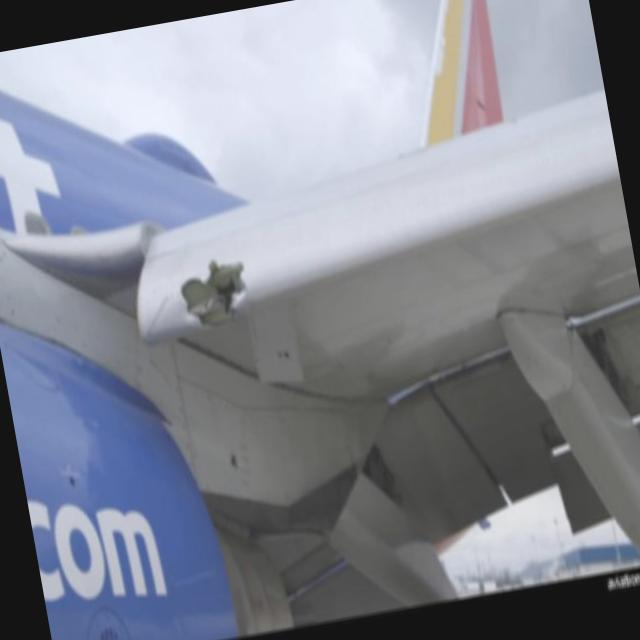crack: (176, 254, 254, 336)
